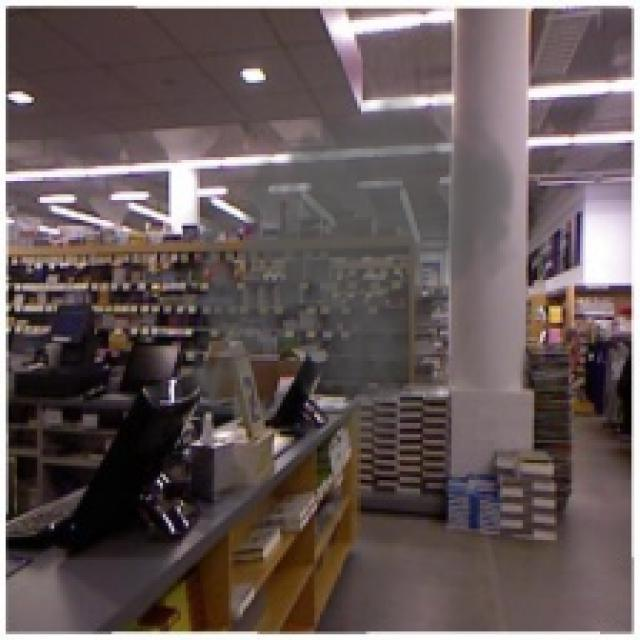Smoke: (174, 74, 523, 449)
